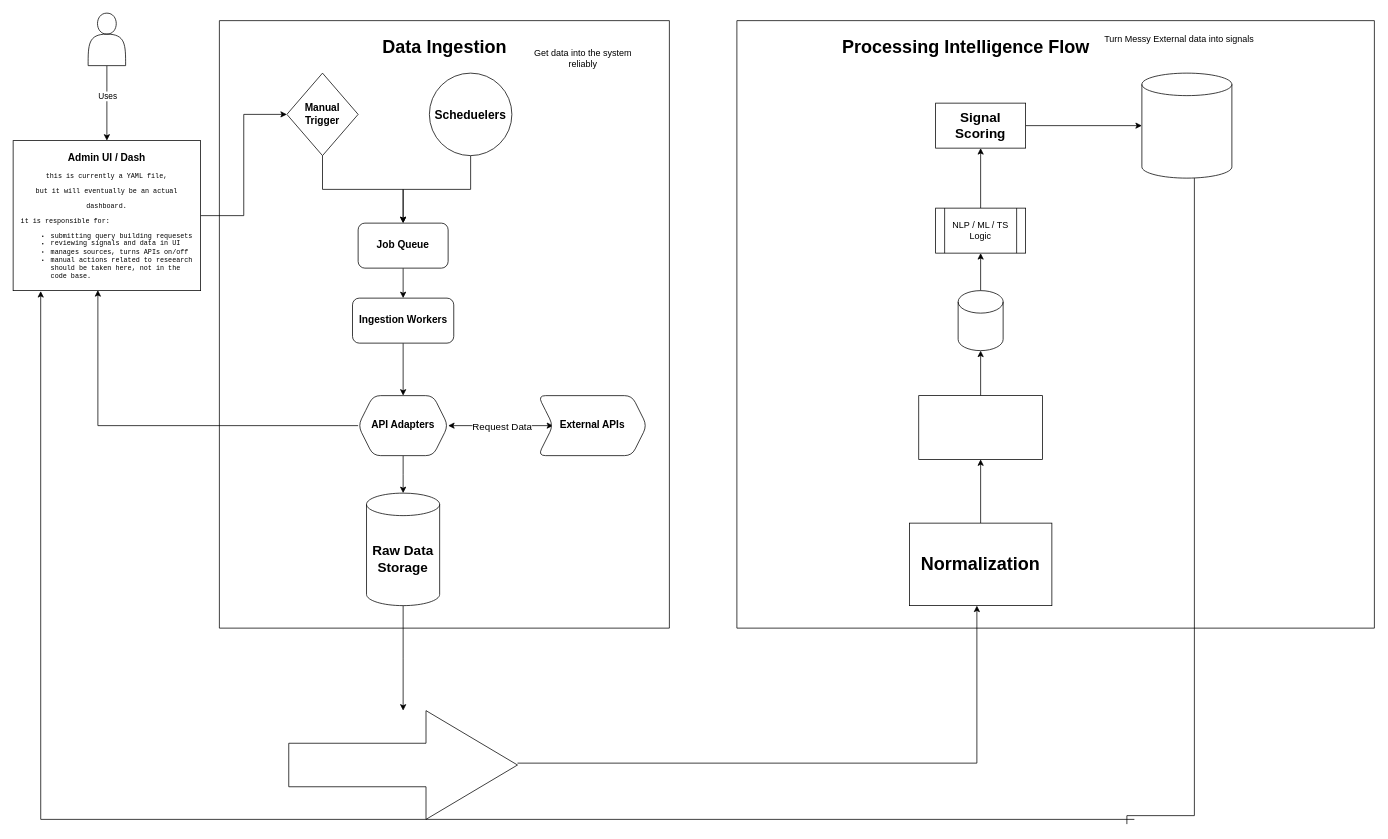
Some shapes in this 1388 by 839 pixel diagram are drawn without their labels. Here are the shapes that lost their labels. From the top down, the centre of each, then its label:
At pixel 106 39: "Admin".
At pixel 1186 125: "Signals DB".
At pixel 980 320: "Structured DB".
At pixel 980 427: "Entity Resolution".
At pixel 403 764: "Processing Flow".
